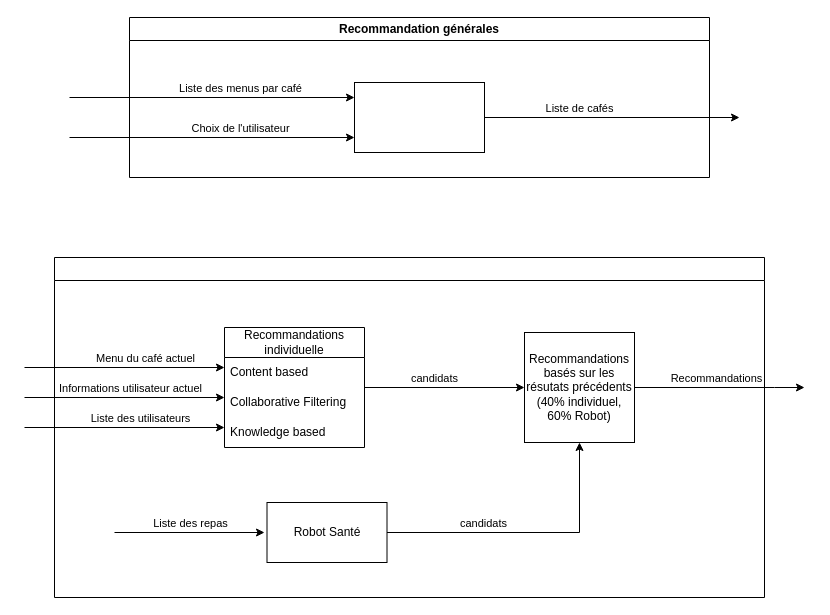
This 830x615 diagram has some shape labels left out. Here are the shapes that lost their labels. From the top down, the centre of each, then its label:
At point 419,117: "Recommandations de café".
At point 409,427: "Recommandation par café".
